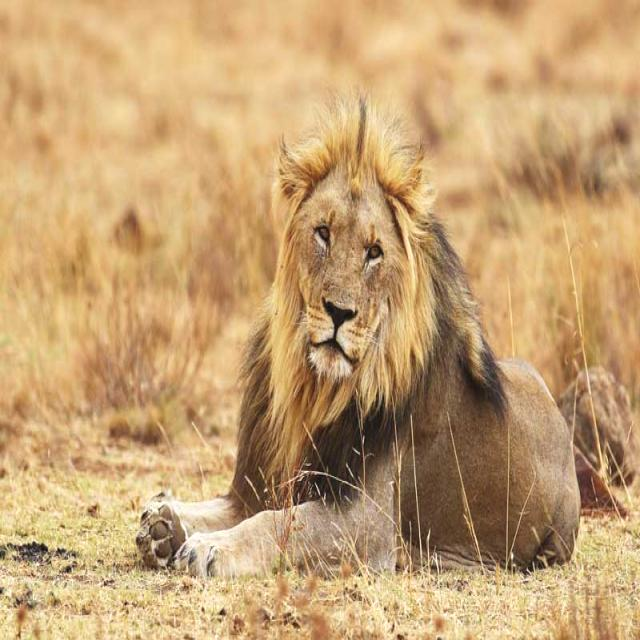lions: (133, 53, 640, 639)
